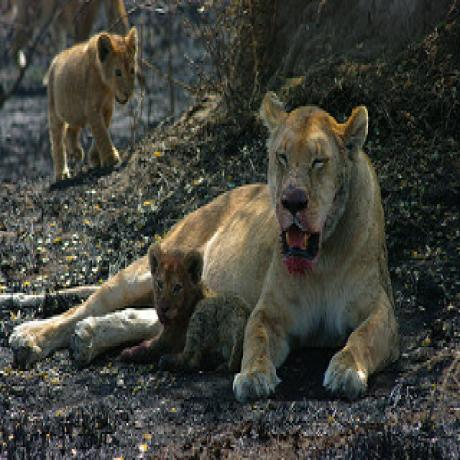Lion: (196, 82, 403, 406), (41, 22, 143, 183), (136, 241, 244, 360)
